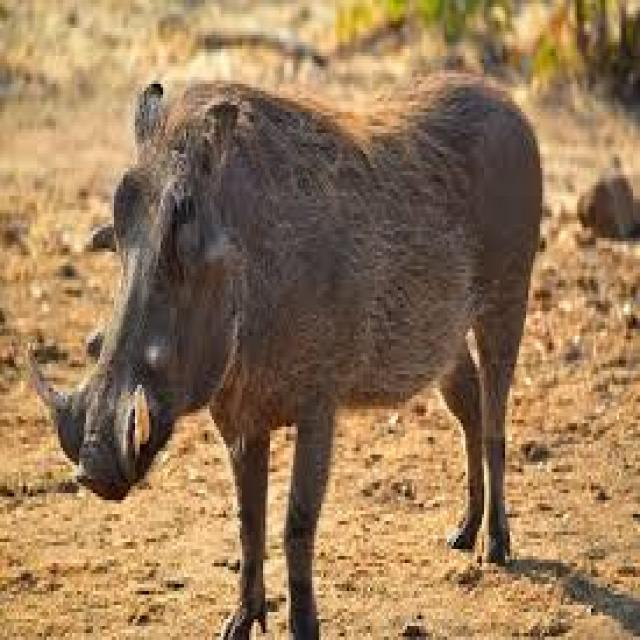boar: (18, 24, 640, 639)
